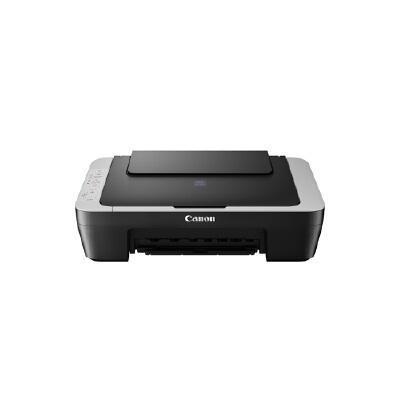Printer: (74, 149, 325, 262)
